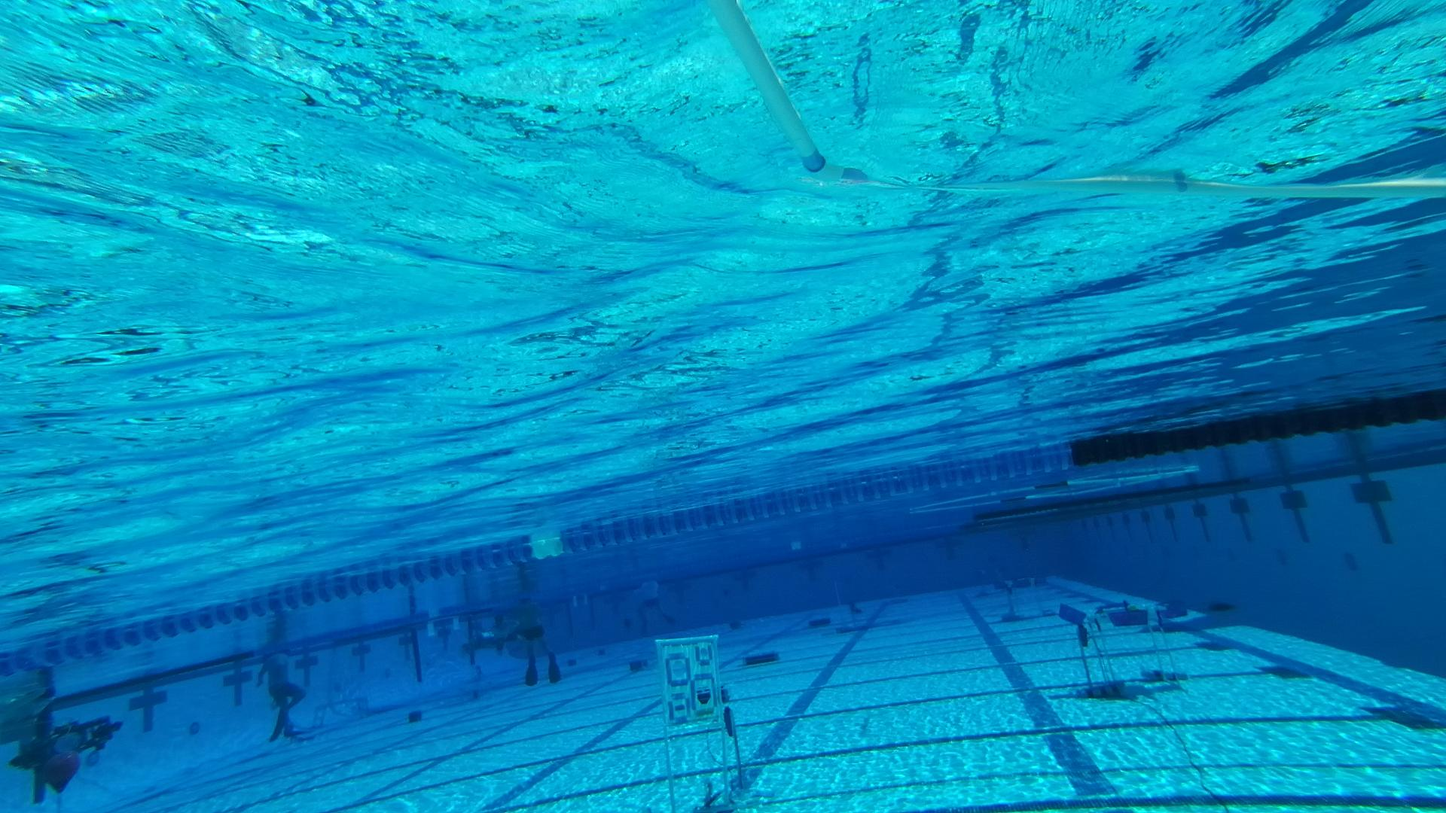coral-box-side: (650, 630, 728, 735)
